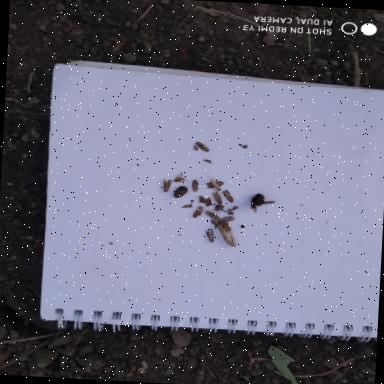pbw: (214, 214, 237, 226), (194, 140, 210, 154), (208, 177, 222, 192), (203, 210, 222, 221), (220, 189, 234, 203), (162, 178, 174, 194), (191, 205, 204, 219), (210, 192, 223, 204), (204, 228, 214, 243), (190, 179, 200, 192)
